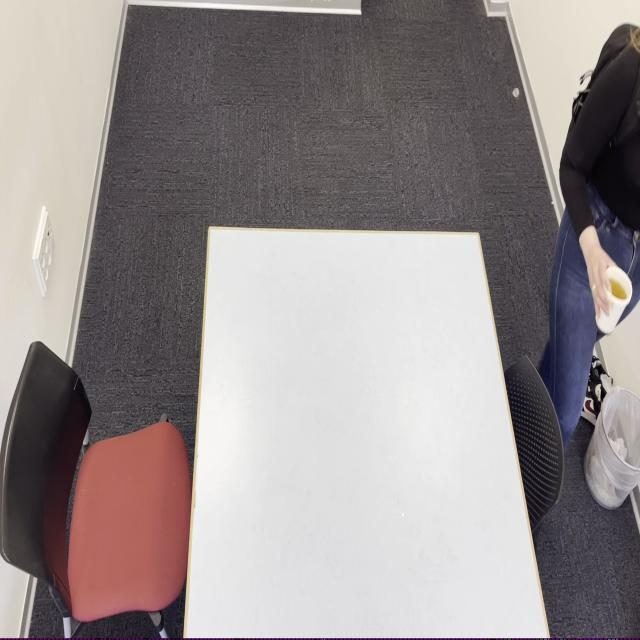ipad: (536, 21, 640, 456)
